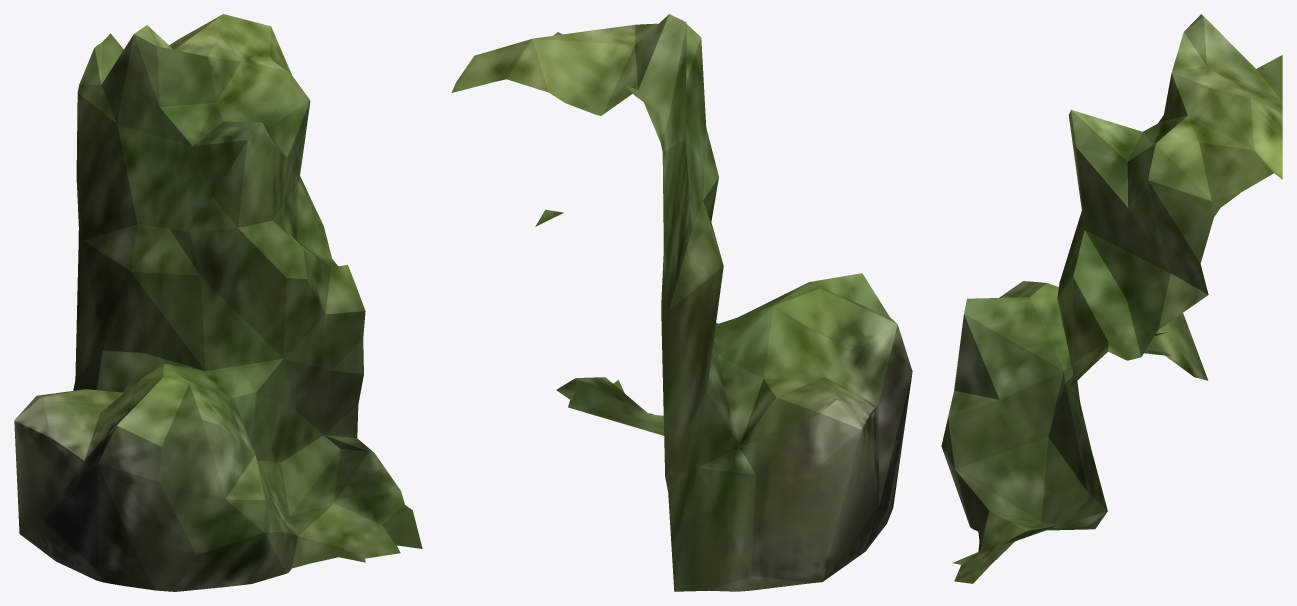
3 views of the same model, side by side, from view 1: azimuth 30°, elevation 25°; view 2: azimuth 150°, elevation 25°; view 3: azimuth 270°, elevation 25° (orthographic). The views are drawn at different scales.
Bounding box in the file's own units: 1.45 × 2.14 × 1.33.
Materials: 1 (1 with a texture image).
